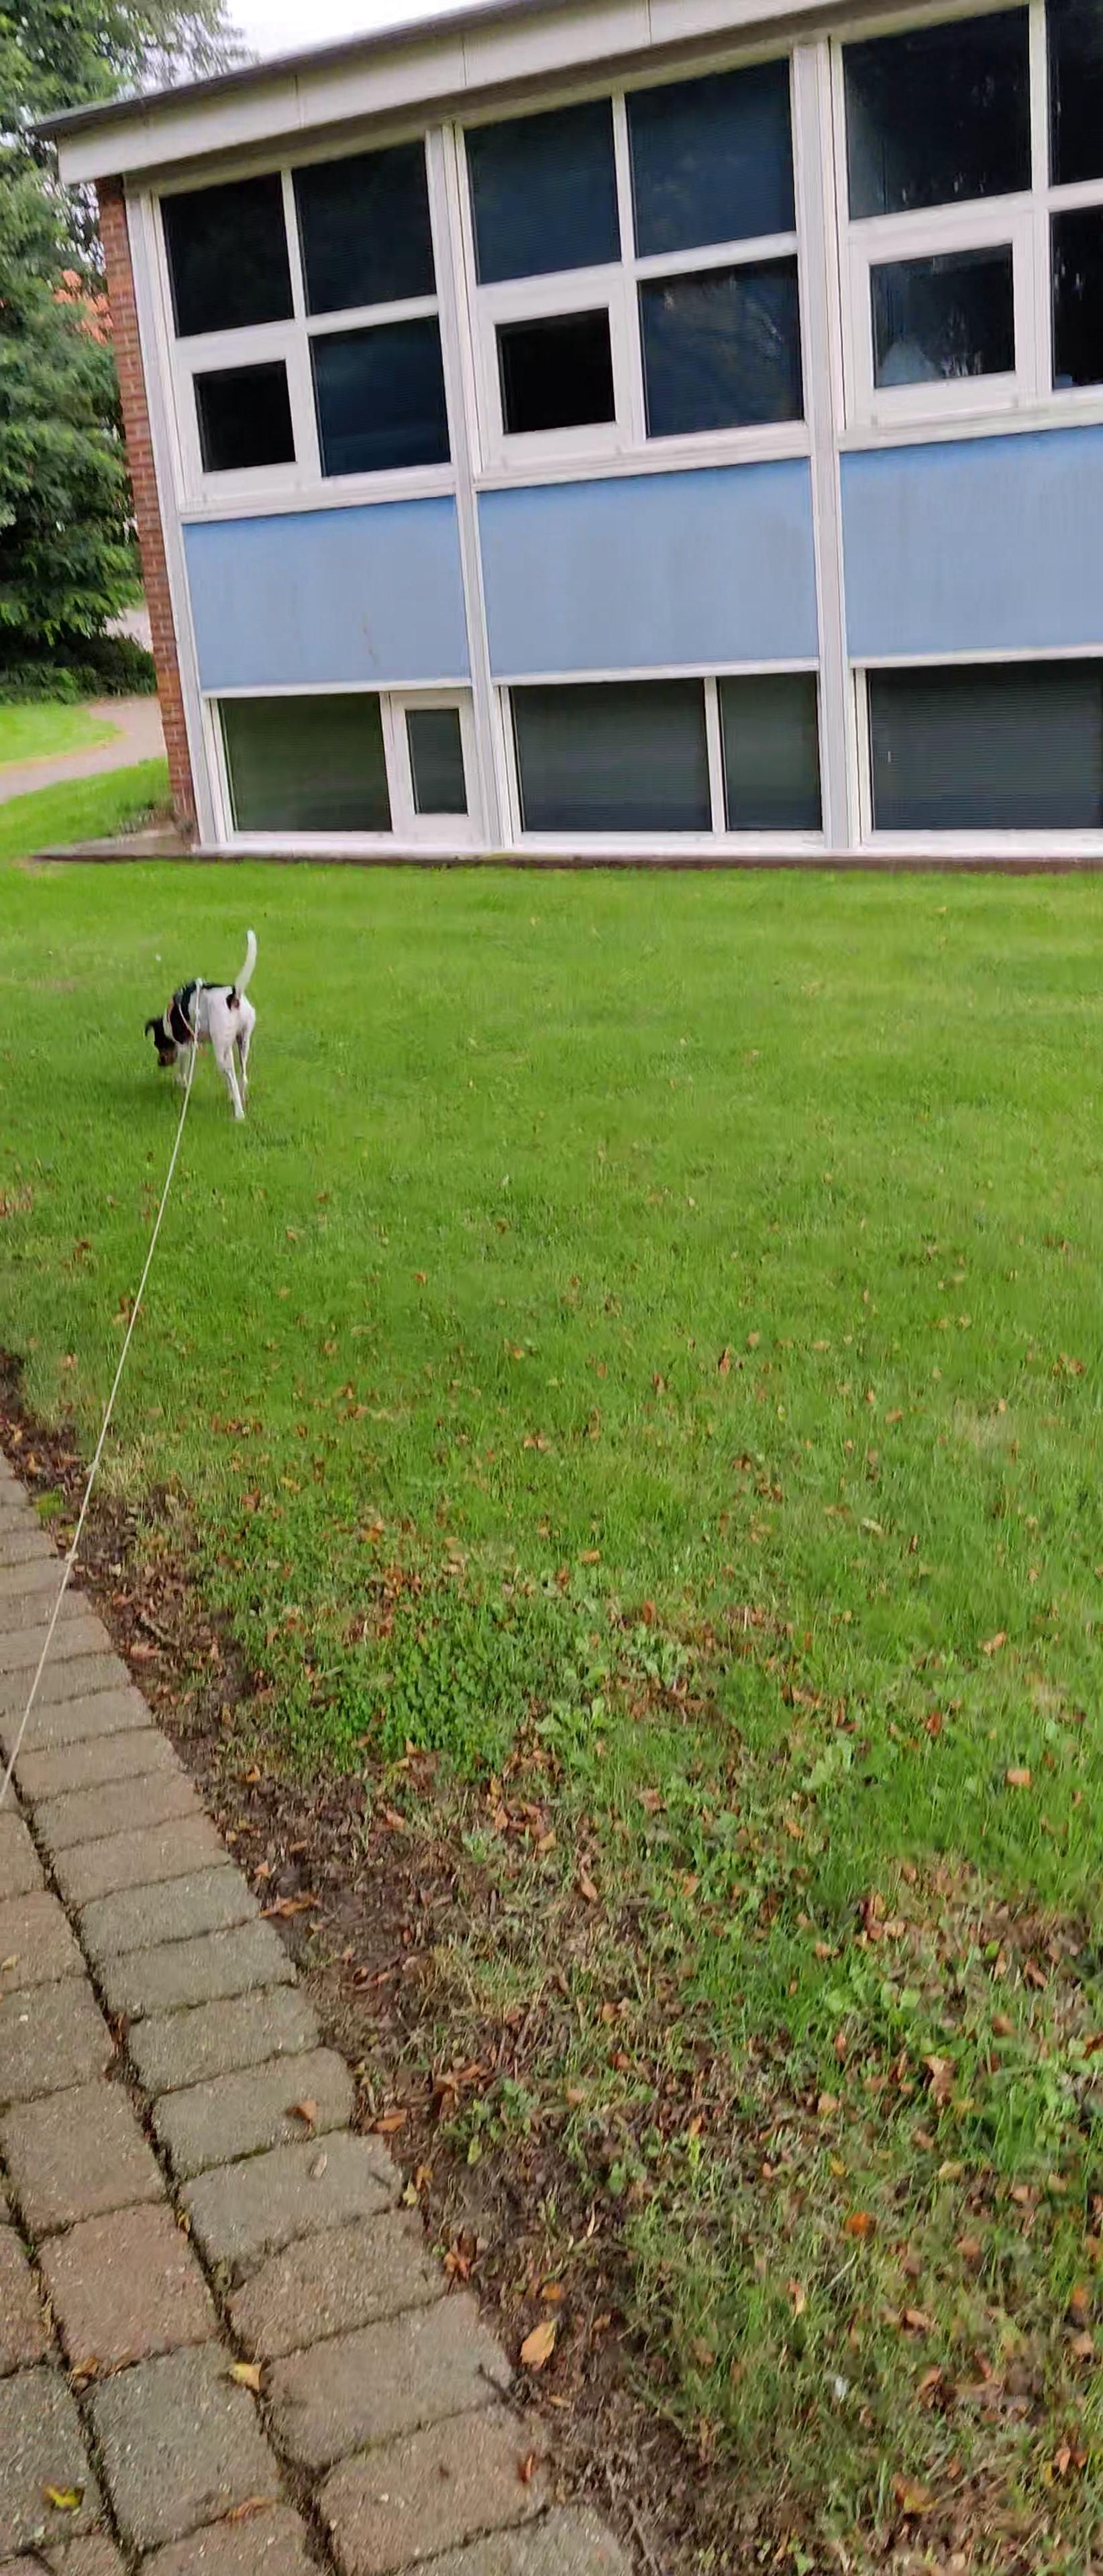Dog: (140, 927, 263, 1129)
